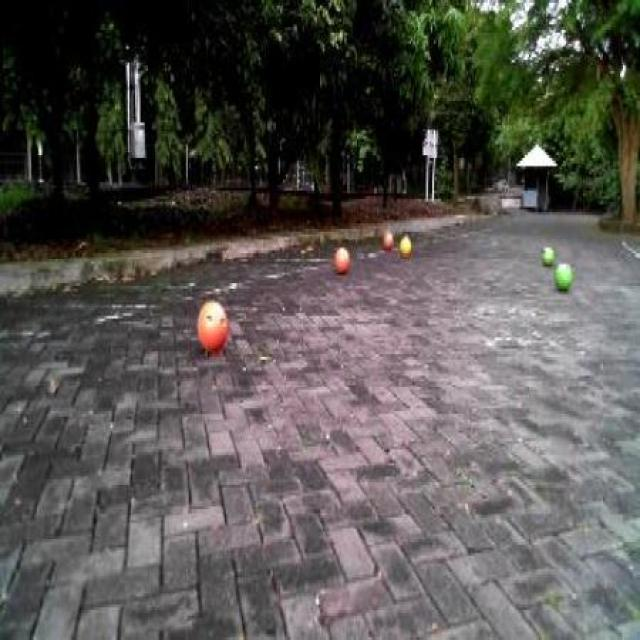buoy: (192, 289, 232, 362), (552, 256, 577, 297), (331, 238, 352, 277), (394, 230, 414, 258), (379, 223, 396, 253), (540, 241, 555, 268)
